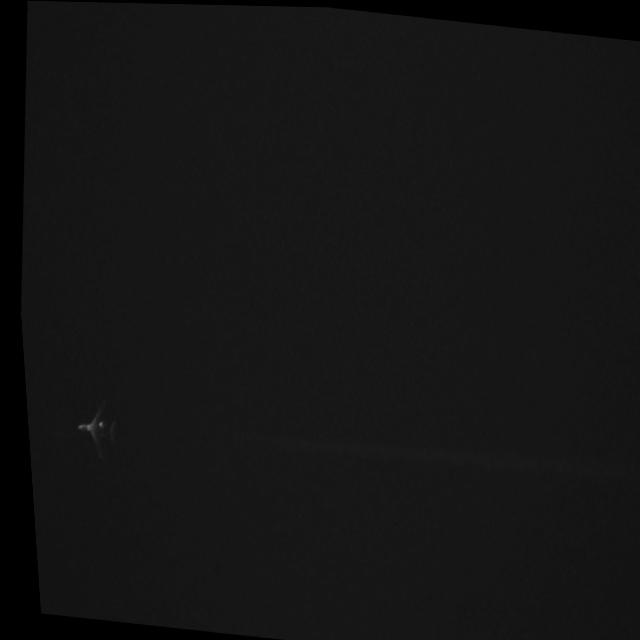aeroplane: (66, 396, 119, 465)
